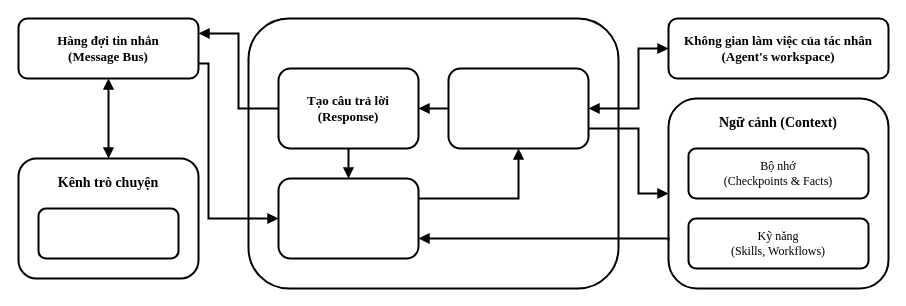
The diagram is 906 pixels wide and 306 high, and some of its shapes have lost their labels. Each missing label, with the box of its shape:
Khung công cụ (Tools): (447, 67, 589, 149)
Mô hình lập luận (LLM): (277, 177, 419, 259)
Telegram: (37, 207, 179, 259)
Vòng lặp tác nhân: (247, 17, 619, 289)
